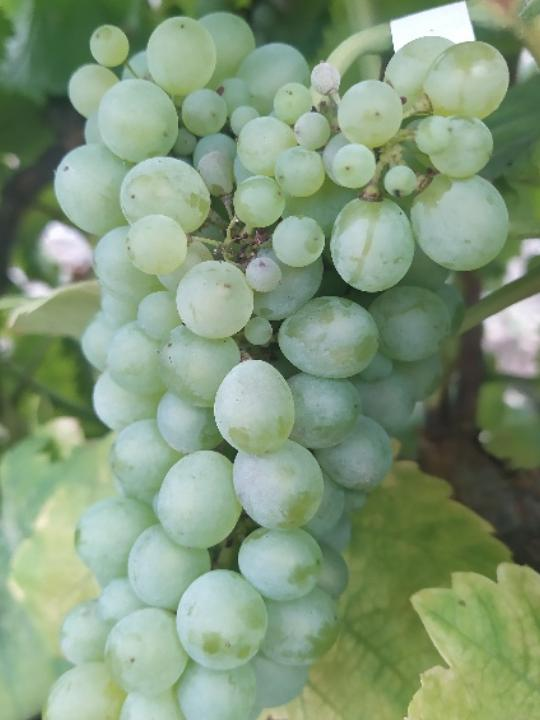grape: (35, 9, 515, 720)
